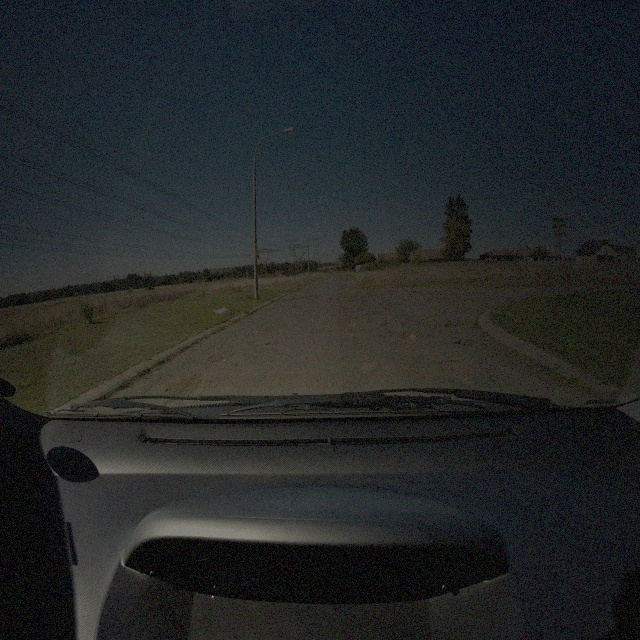pothole: (164, 371, 204, 406), (440, 354, 480, 388), (392, 338, 421, 354), (209, 347, 235, 362), (382, 320, 405, 333), (455, 337, 476, 350), (264, 337, 282, 349), (246, 328, 266, 338), (416, 367, 429, 380), (348, 326, 366, 335), (313, 325, 325, 335), (444, 322, 457, 331), (387, 299, 399, 306)
